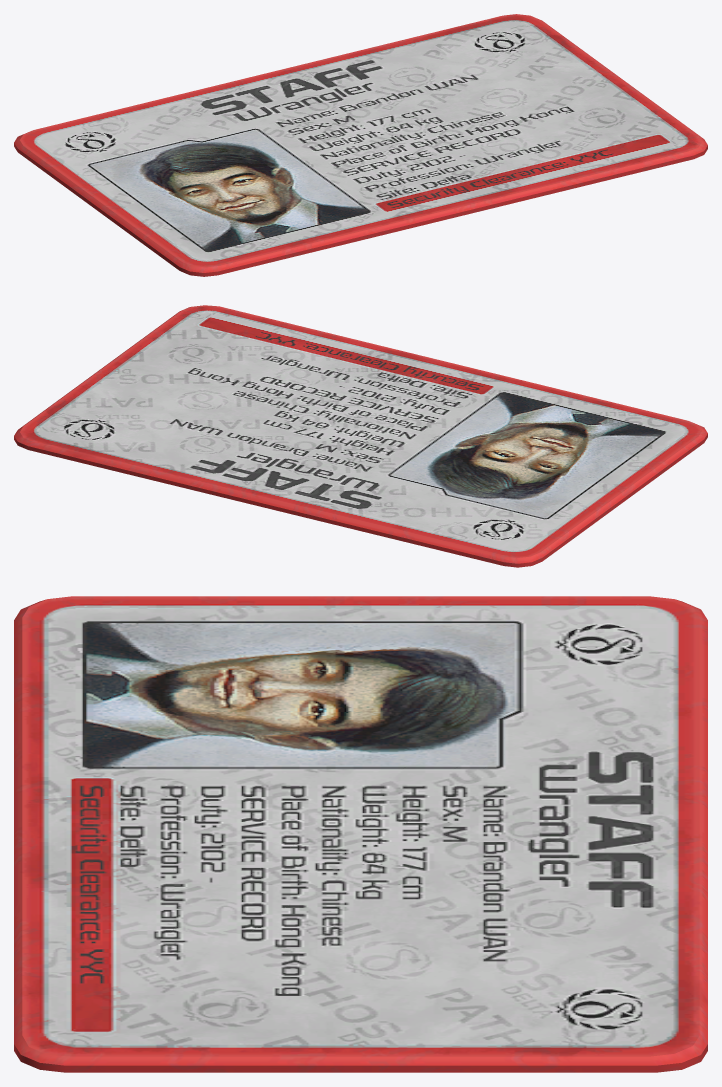
Rendered from 02_05_brandon_badge.dae.
3 views of the same model, one above another, from view 1: azimuth 30°, elevation 25°; view 2: azimuth 150°, elevation 25°; view 3: azimuth 270°, elevation 25° (orthographic). The views are drawn at different scales.
Visible parts, largest first — view 1: badge; view 2: badge; view 3: badge.
Boxes of the visible parts, x1,y1,x2,y2 form: badge: (14,14,707,276); badge: (14,305,707,567); badge: (14,596,707,1072).
Size of the model in its own units: 0.172 by 0.00218 by 0.108.
